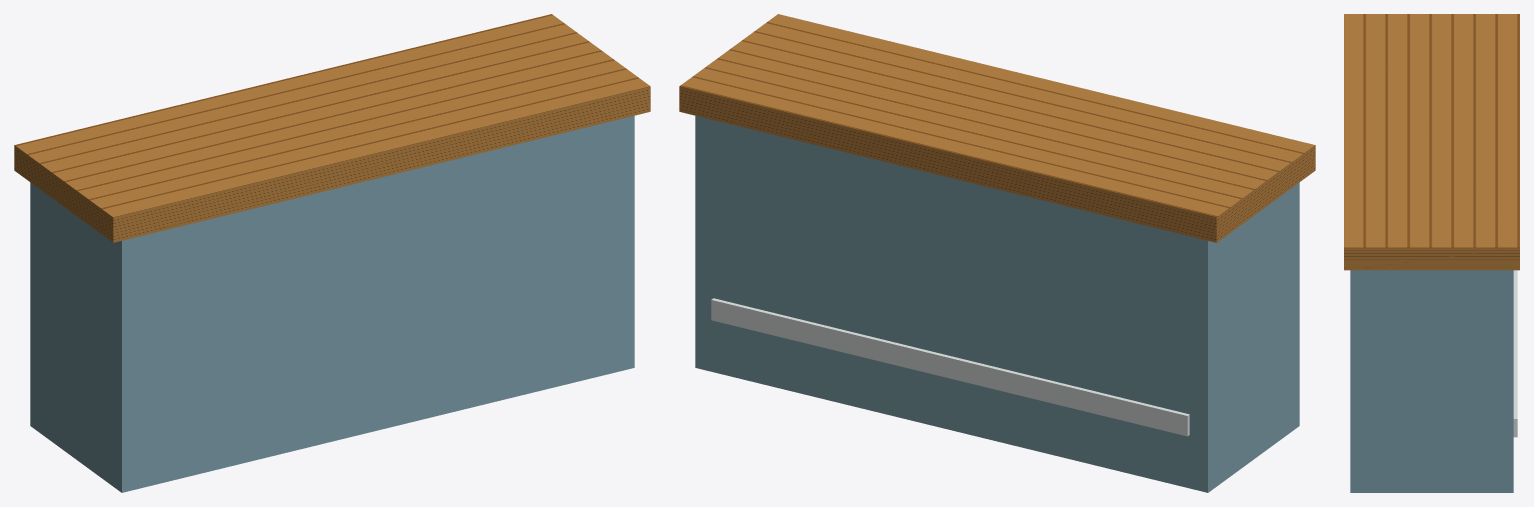
Rendered from counter.glb.
The picture shows the model from 3 angles, left to right: view 1: azimuth 30°, elevation 25°; view 2: azimuth 150°, elevation 25°; view 3: azimuth 270°, elevation 25°; orthographic projection. The views are drawn at different scales.
Parts seen in each view (by area): view 1: Body, Worktop; view 2: Body, Worktop, Trim; view 3: Worktop, Body, Trim.
Boxes of the visible parts, x1,y1,x2,y2 form: Body: [30, 115, 634, 492]; Worktop: [14, 14, 650, 242]; Body: [695, 115, 1299, 492]; Worktop: [679, 14, 1315, 242]; Trim: [711, 298, 1189, 436]; Worktop: [1344, 14, 1519, 270]; Body: [1350, 270, 1513, 492]; Trim: [1513, 270, 1517, 437].
Size of the model in its own units: 2.2 by 1.1 by 0.7.
3 materials, 1 textured.
